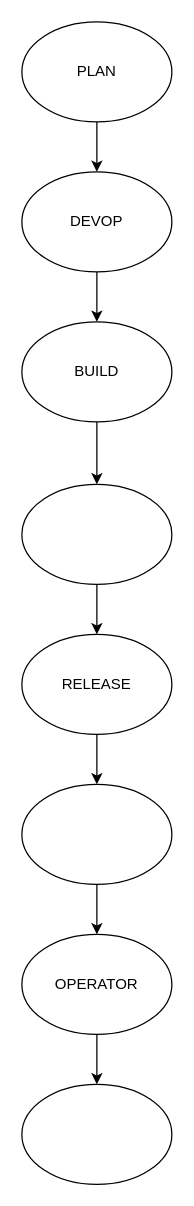
This 194x1206 diagram has some shape labels left out. Here are the shapes that lost their labels. From the top down, the box of each, then its label:
(21, 483, 172, 584): TEXT
(21, 783, 172, 884): DEPLOY
